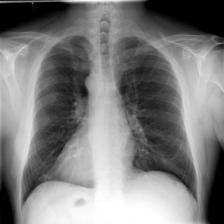normal: (19, 31, 200, 206)
